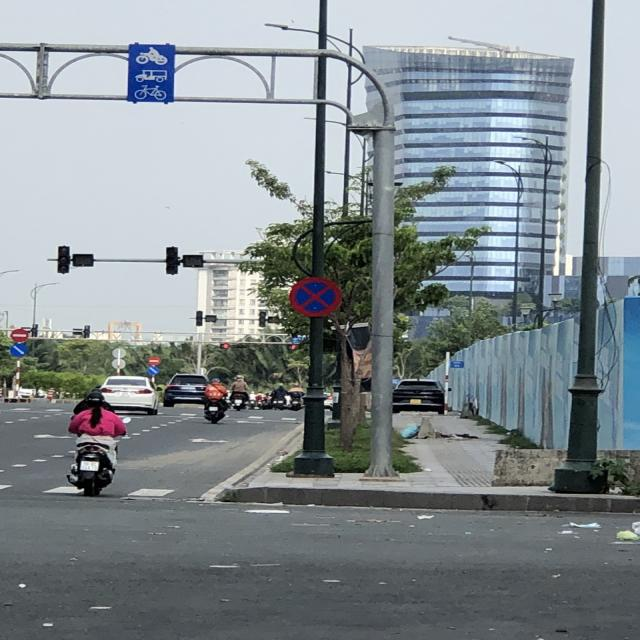Bien bao cam dung xe va do xe: (283, 272, 345, 319)
